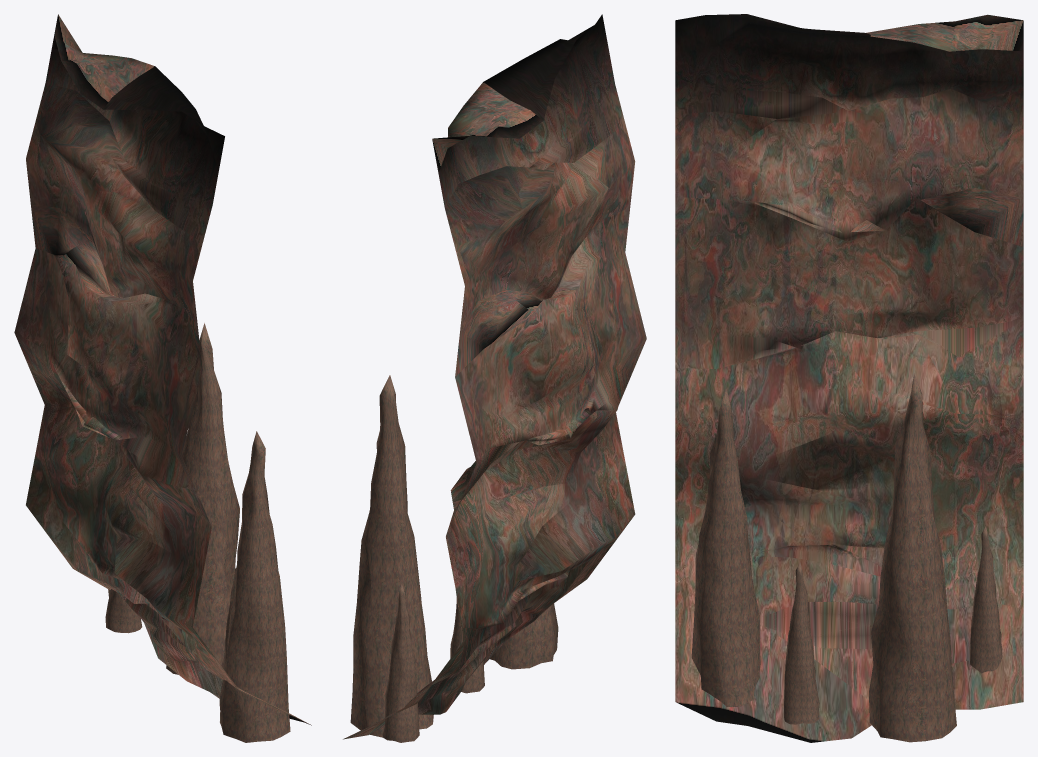
Rendered from cave_walls_straight_stalag.glb.
The picture shows the model from 3 angles, left to right: view 1: azimuth 30°, elevation 25°; view 2: azimuth 150°, elevation 25°; view 3: azimuth 270°, elevation 25°; orthographic projection. The views are drawn at different scales.
Parts seen in each view (by area): view 1: cave_straight_stalag-col; view 2: cave_straight_stalag-col; view 3: cave_straight_stalag-col.
Part boxes in pixels (bbox=[...]): cave_straight_stalag-col: bbox=[14, 14, 311, 742]; cave_straight_stalag-col: bbox=[343, 14, 646, 742]; cave_straight_stalag-col: bbox=[675, 14, 1023, 742].
Size of the model in its own units: 1.31 by 4.3 by 2.
Materials: 2 (2 with a texture image).
